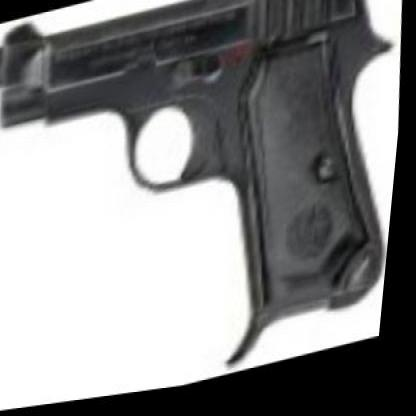pistol: (0, 0, 411, 401)
